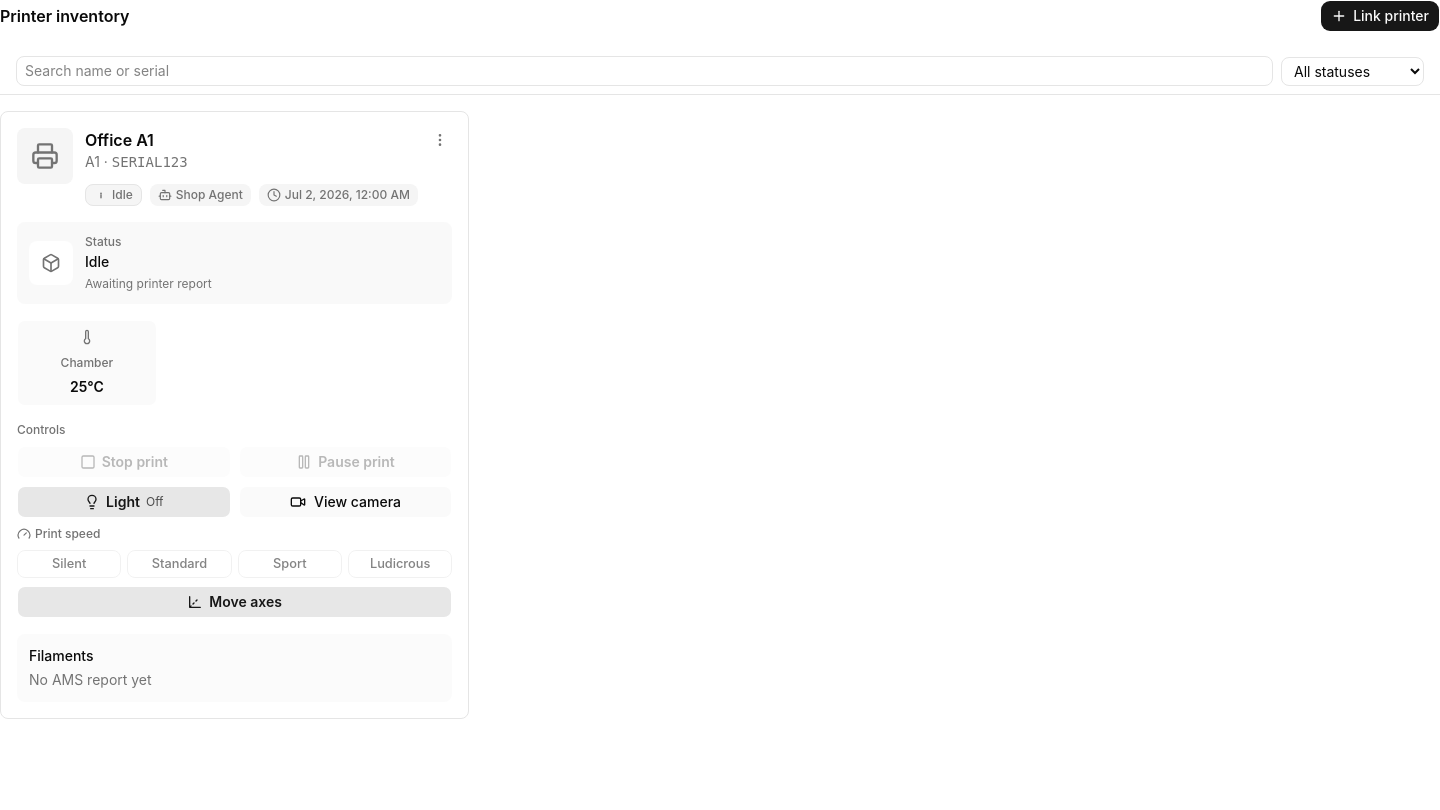
Scenario: PrinterInventory › opens chamber temperature controls with chamber presets
Click the button with aria-label "Set chamber temperature": (87, 363) [17,320,157,406]
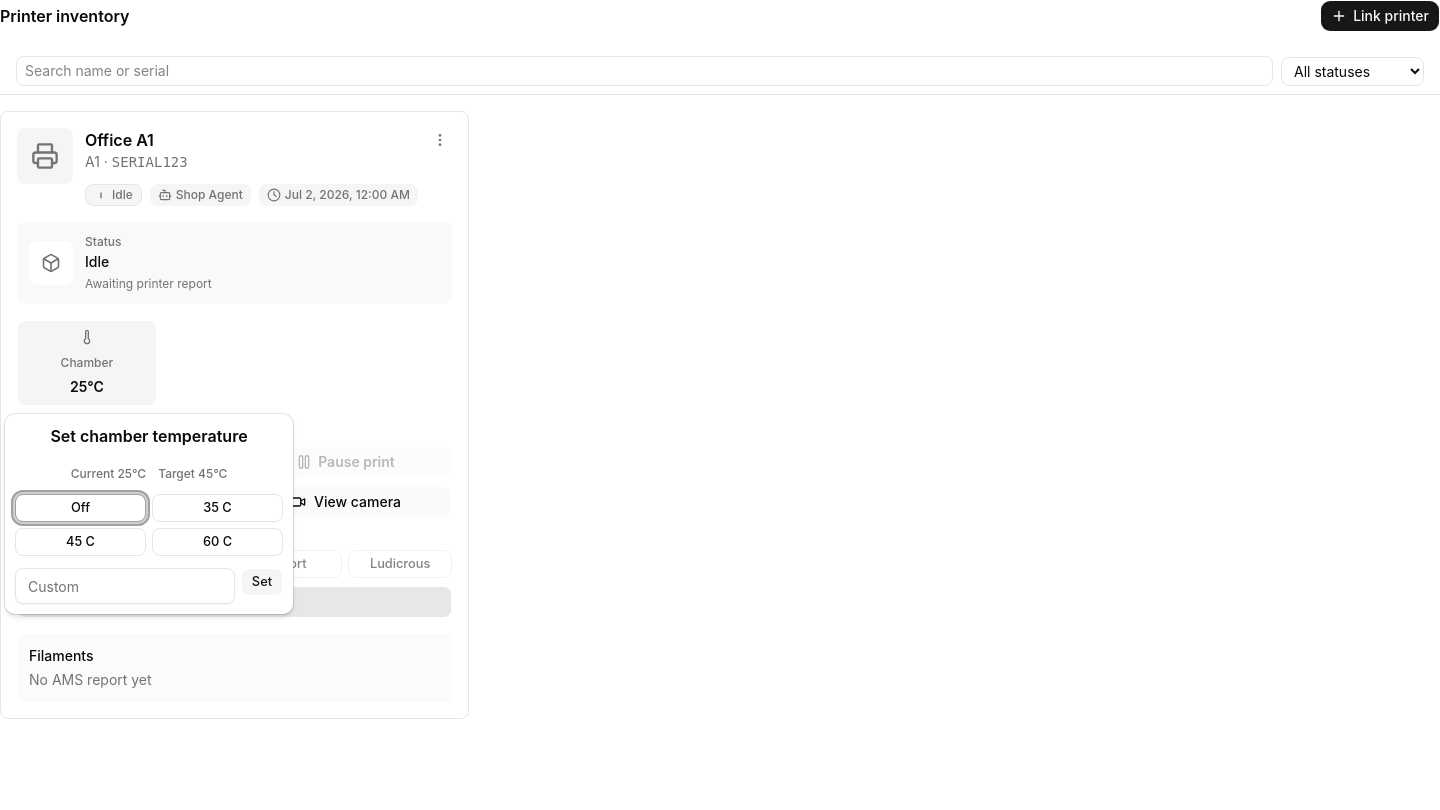
Now the heading "Set chamber temperature" is shown, box [50,426,248,446]
Now the text "Current 25°C" is shown, box [71,466,146,482]
Now the text "Target 45°C" is shown, box [158,466,227,482]
